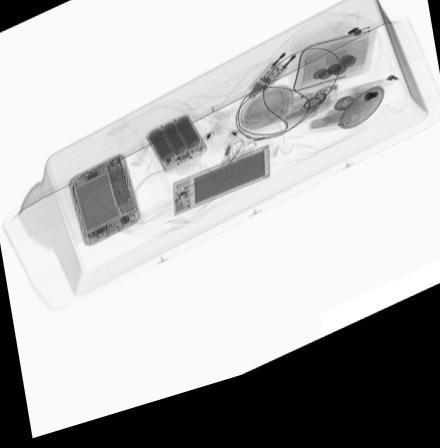Powerbank: (169, 160, 268, 227), (142, 122, 210, 184)
